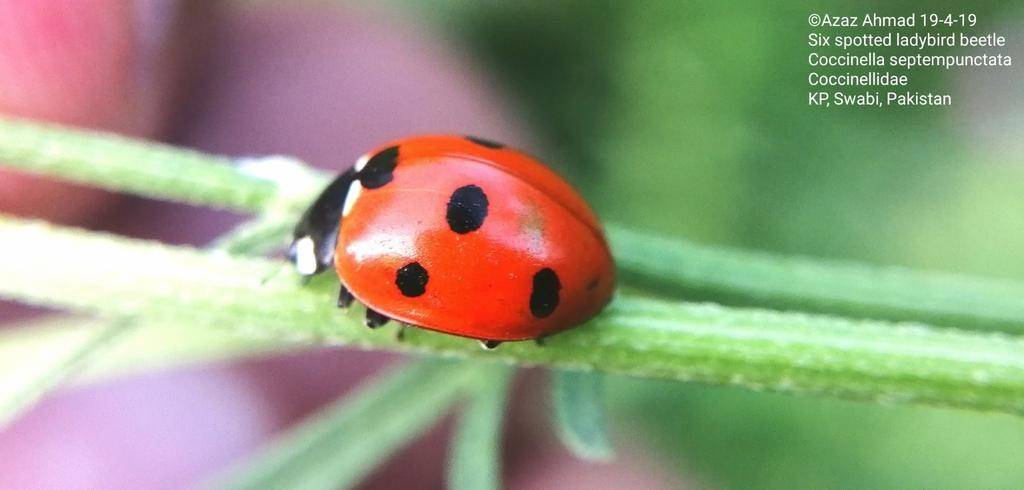ladybug: (277, 131, 621, 352)
